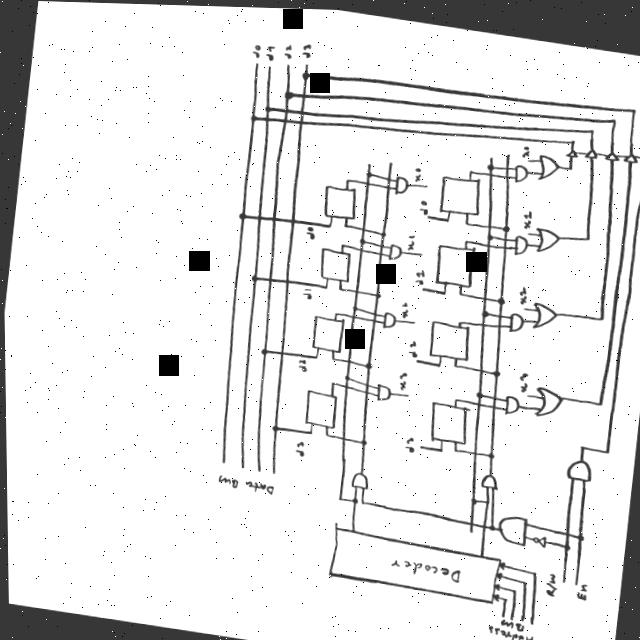crossover: (263, 273, 272, 283), (468, 445, 477, 454), (475, 362, 483, 372), (268, 213, 276, 221), (276, 347, 283, 355), (358, 223, 366, 230), (561, 527, 569, 534), (288, 215, 295, 222), (296, 117, 303, 124), (297, 107, 304, 114), (338, 433, 345, 440), (347, 311, 354, 318), (376, 240, 383, 247), (383, 181, 390, 188), (483, 239, 490, 246), (340, 381, 348, 387), (485, 168, 493, 174), (477, 519, 483, 527), (282, 276, 288, 283), (254, 212, 260, 219), (263, 114, 269, 121), (280, 115, 286, 122), (282, 105, 288, 112), (299, 90, 305, 97), (343, 356, 350, 362), (351, 286, 358, 292), (368, 315, 375, 321), (375, 248, 382, 254), (362, 178, 369, 184), (384, 173, 390, 180), (473, 397, 479, 404), (488, 400, 494, 407), (493, 320, 500, 326), (494, 310, 501, 316), (479, 292, 486, 298), (484, 220, 491, 226), (499, 241, 506, 247), (500, 233, 507, 239), (502, 162, 509, 168), (355, 245, 363, 250), (489, 392, 495, 398), (362, 379, 368, 385), (361, 387, 367, 393), (478, 319, 484, 325), (502, 170, 508, 176), (369, 309, 376, 314)
junction: (299, 67, 310, 79), (282, 87, 293, 98), (236, 209, 246, 220), (361, 358, 371, 369), (572, 528, 582, 539), (257, 344, 267, 355), (248, 272, 258, 282), (472, 387, 482, 397), (478, 305, 488, 315), (489, 365, 499, 375), (246, 111, 256, 121), (268, 422, 278, 432), (355, 435, 365, 445), (627, 102, 637, 112), (607, 112, 617, 122), (362, 166, 372, 176), (500, 220, 509, 230), (494, 293, 503, 303), (348, 301, 357, 311), (356, 234, 365, 244), (483, 229, 492, 239), (480, 494, 489, 504), (370, 288, 379, 297), (464, 518, 473, 527), (559, 539, 568, 548), (484, 448, 492, 457), (575, 440, 584, 448), (586, 123, 594, 132), (348, 494, 356, 503), (333, 493, 341, 501), (595, 310, 603, 318), (593, 396, 601, 404), (467, 494, 475, 502), (309, 352, 317, 360), (600, 444, 608, 452), (323, 220, 331, 228), (485, 160, 493, 168), (327, 377, 335, 385), (262, 103, 270, 111), (582, 231, 589, 239), (565, 161, 572, 169), (327, 353, 334, 361), (461, 217, 468, 225), (334, 284, 342, 291), (342, 174, 349, 182), (341, 371, 348, 379), (377, 228, 385, 235), (485, 521, 492, 529), (528, 566, 535, 573), (455, 288, 462, 295), (411, 355, 418, 362), (417, 282, 424, 289), (320, 282, 327, 289), (451, 393, 458, 400), (518, 576, 526, 582), (434, 445, 441, 451), (306, 427, 312, 434), (508, 584, 514, 591), (465, 165, 472, 171), (433, 360, 439, 366), (443, 215, 449, 221), (449, 445, 455, 451), (357, 497, 363, 503), (321, 429, 327, 435), (341, 220, 347, 226), (499, 593, 505, 599), (461, 235, 467, 241), (568, 135, 574, 141), (338, 240, 344, 246), (439, 288, 445, 293), (450, 360, 455, 366), (331, 308, 336, 314), (454, 316, 459, 322), (639, 150, 640, 156)
terminal: (525, 613, 534, 624), (363, 158, 372, 166), (515, 611, 523, 620), (252, 464, 260, 472), (414, 247, 422, 255), (502, 146, 510, 154), (415, 440, 423, 448), (568, 574, 576, 582), (217, 457, 225, 464), (423, 210, 431, 217), (486, 150, 493, 158), (407, 315, 414, 323), (556, 574, 564, 581), (236, 461, 243, 468), (267, 465, 274, 472), (384, 157, 391, 164), (419, 180, 426, 187), (524, 154, 531, 161), (519, 301, 526, 308), (496, 609, 503, 616), (521, 388, 527, 396), (401, 388, 407, 396), (523, 227, 529, 234), (253, 59, 259, 65), (265, 63, 271, 69), (284, 61, 290, 67), (302, 60, 308, 66), (505, 612, 511, 618)
text: (384, 552, 461, 581), (213, 472, 273, 496), (483, 621, 532, 640), (540, 567, 557, 594), (495, 615, 523, 630), (514, 367, 528, 390), (394, 367, 407, 390), (519, 206, 532, 228), (416, 193, 429, 213), (572, 579, 586, 597), (400, 433, 414, 451), (299, 39, 311, 58), (281, 41, 293, 60), (397, 299, 409, 318), (404, 336, 416, 355), (291, 438, 303, 456), (263, 42, 275, 60), (301, 223, 315, 238), (405, 231, 416, 250), (293, 355, 306, 371), (411, 266, 423, 283), (516, 282, 526, 302), (411, 163, 422, 181), (250, 42, 261, 58), (299, 285, 312, 298), (519, 141, 530, 156)
